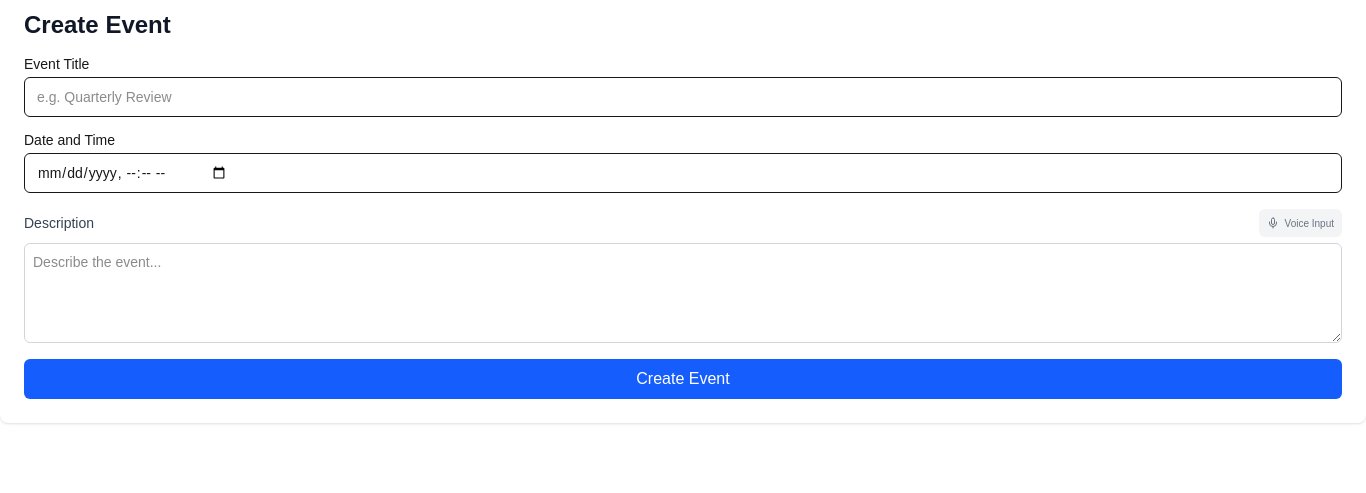
Test: EventForm Component › validates required fields
What coordinates should you click on to do the following:
click the button "Create Event"
I would click on:
 (683, 379)
Its box is [24,359,1342,399].
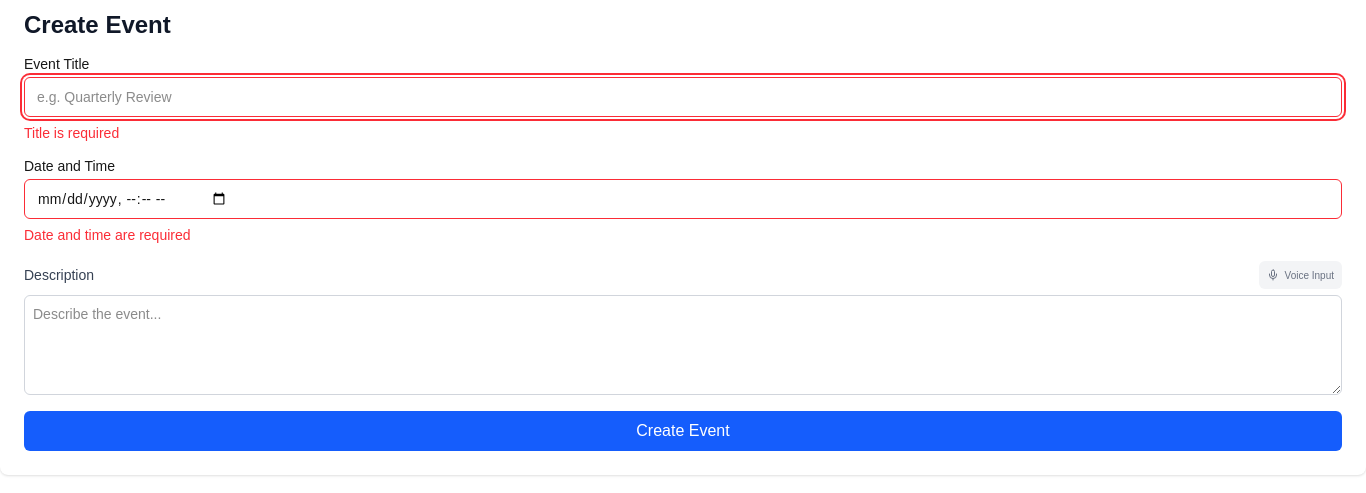
Now the text "Title is required" is shown, box [24,125,119,141]
Now the text "Date and time are required" is shown, box [24,227,190,243]
